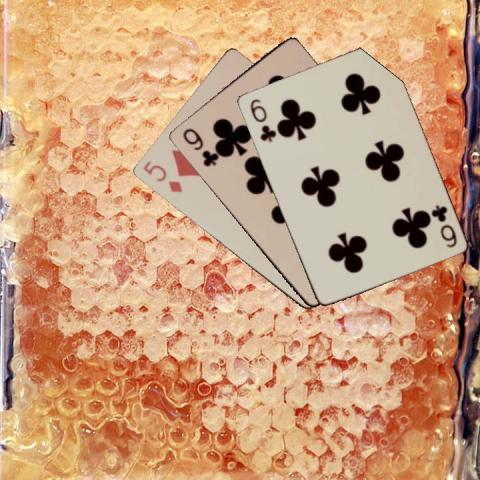5d: (140, 157, 184, 194)
6c: (246, 96, 276, 144), (428, 201, 458, 249)
9c: (179, 125, 218, 168)
